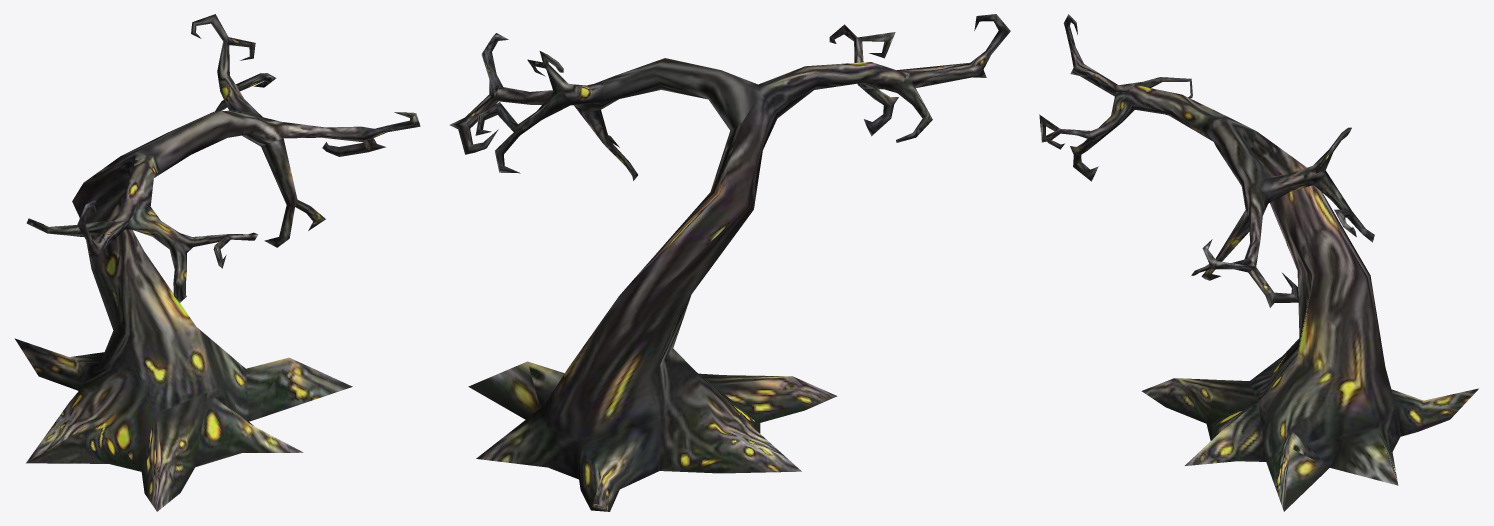
File: tree.fbx
The picture shows the model from 3 angles, left to right: view 1: azimuth 30°, elevation 25°; view 2: azimuth 150°, elevation 25°; view 3: azimuth 270°, elevation 25°; orthographic projection. The views are drawn at different scales.
Visible parts, largest first — view 1: mobile_lava_dead_tree_05.011; view 2: mobile_lava_dead_tree_05.011; view 3: mobile_lava_dead_tree_05.011.
Part boxes in pixels (bbox=[...]): mobile_lava_dead_tree_05.011: bbox=[14, 14, 420, 511]; mobile_lava_dead_tree_05.011: bbox=[449, 14, 1010, 511]; mobile_lava_dead_tree_05.011: bbox=[1039, 14, 1478, 511].
Bounding box in the file's own units: 169 × 143 × 168.
